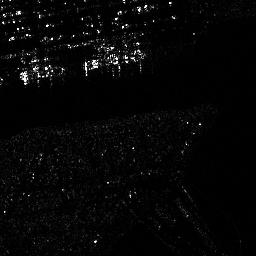ship: (85, 48, 143, 70), (21, 65, 65, 83)
